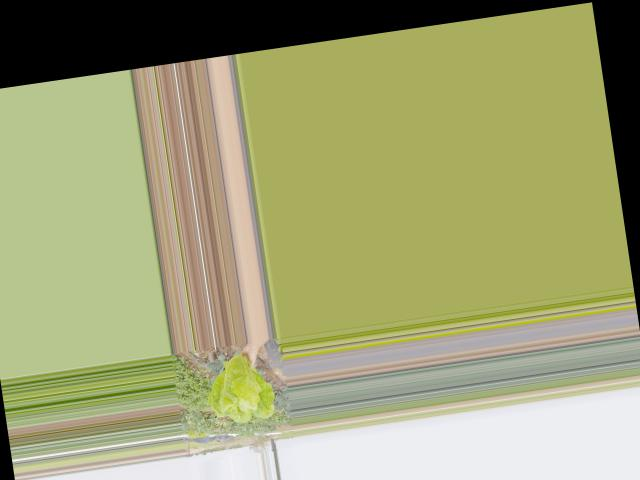lettuce: (200, 344, 280, 427)
